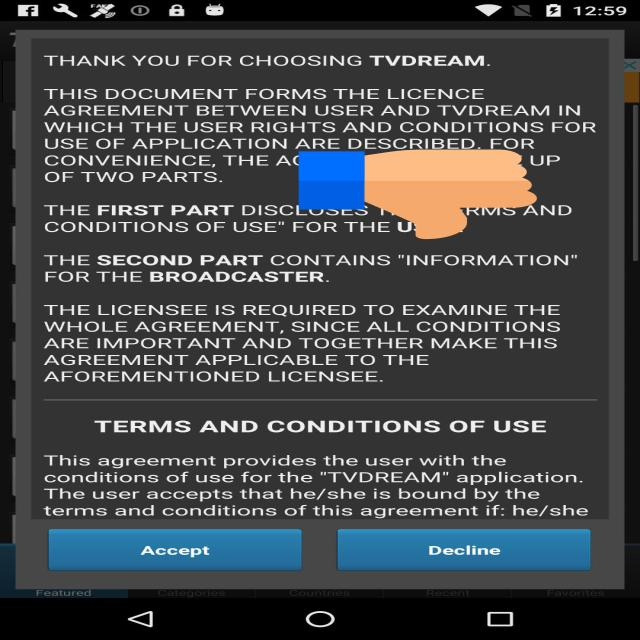obstruction: (299, 148, 537, 242)
